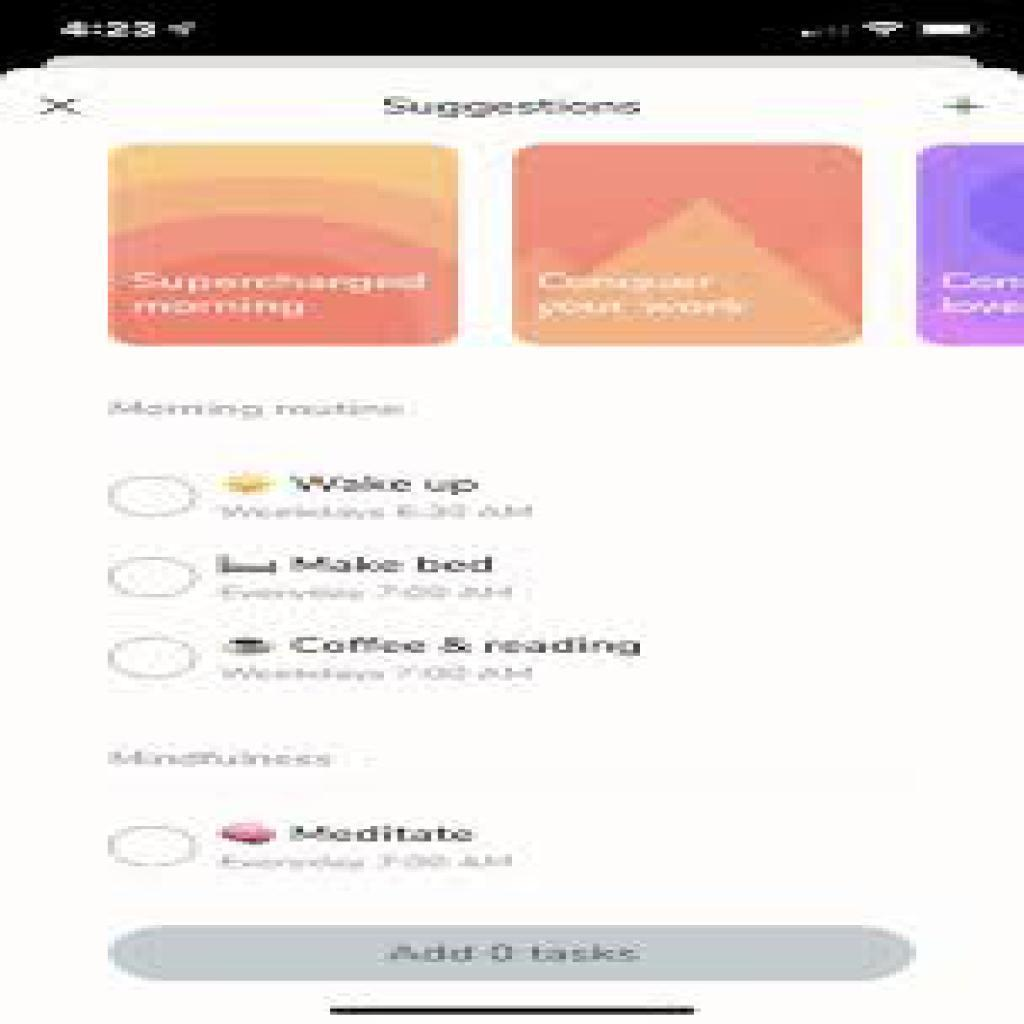button: (109, 919, 922, 987)
radio: (110, 632, 204, 696), (107, 550, 202, 609), (103, 470, 206, 523), (106, 821, 202, 877)
